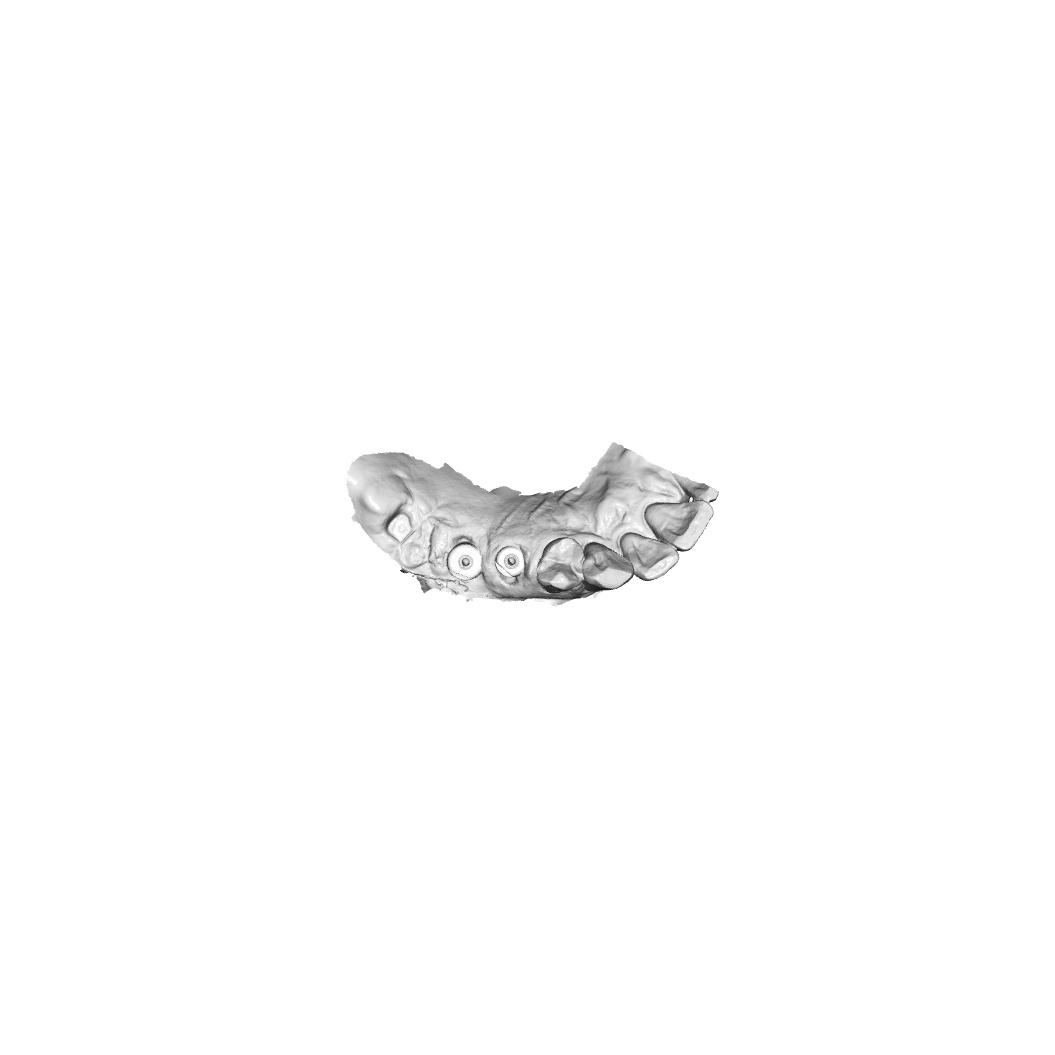canine: (581, 540, 634, 591)
implant: (447, 540, 484, 583), (493, 545, 527, 579)
incisor: (644, 498, 715, 552), (620, 532, 680, 582)
premolar: (536, 536, 586, 594)
